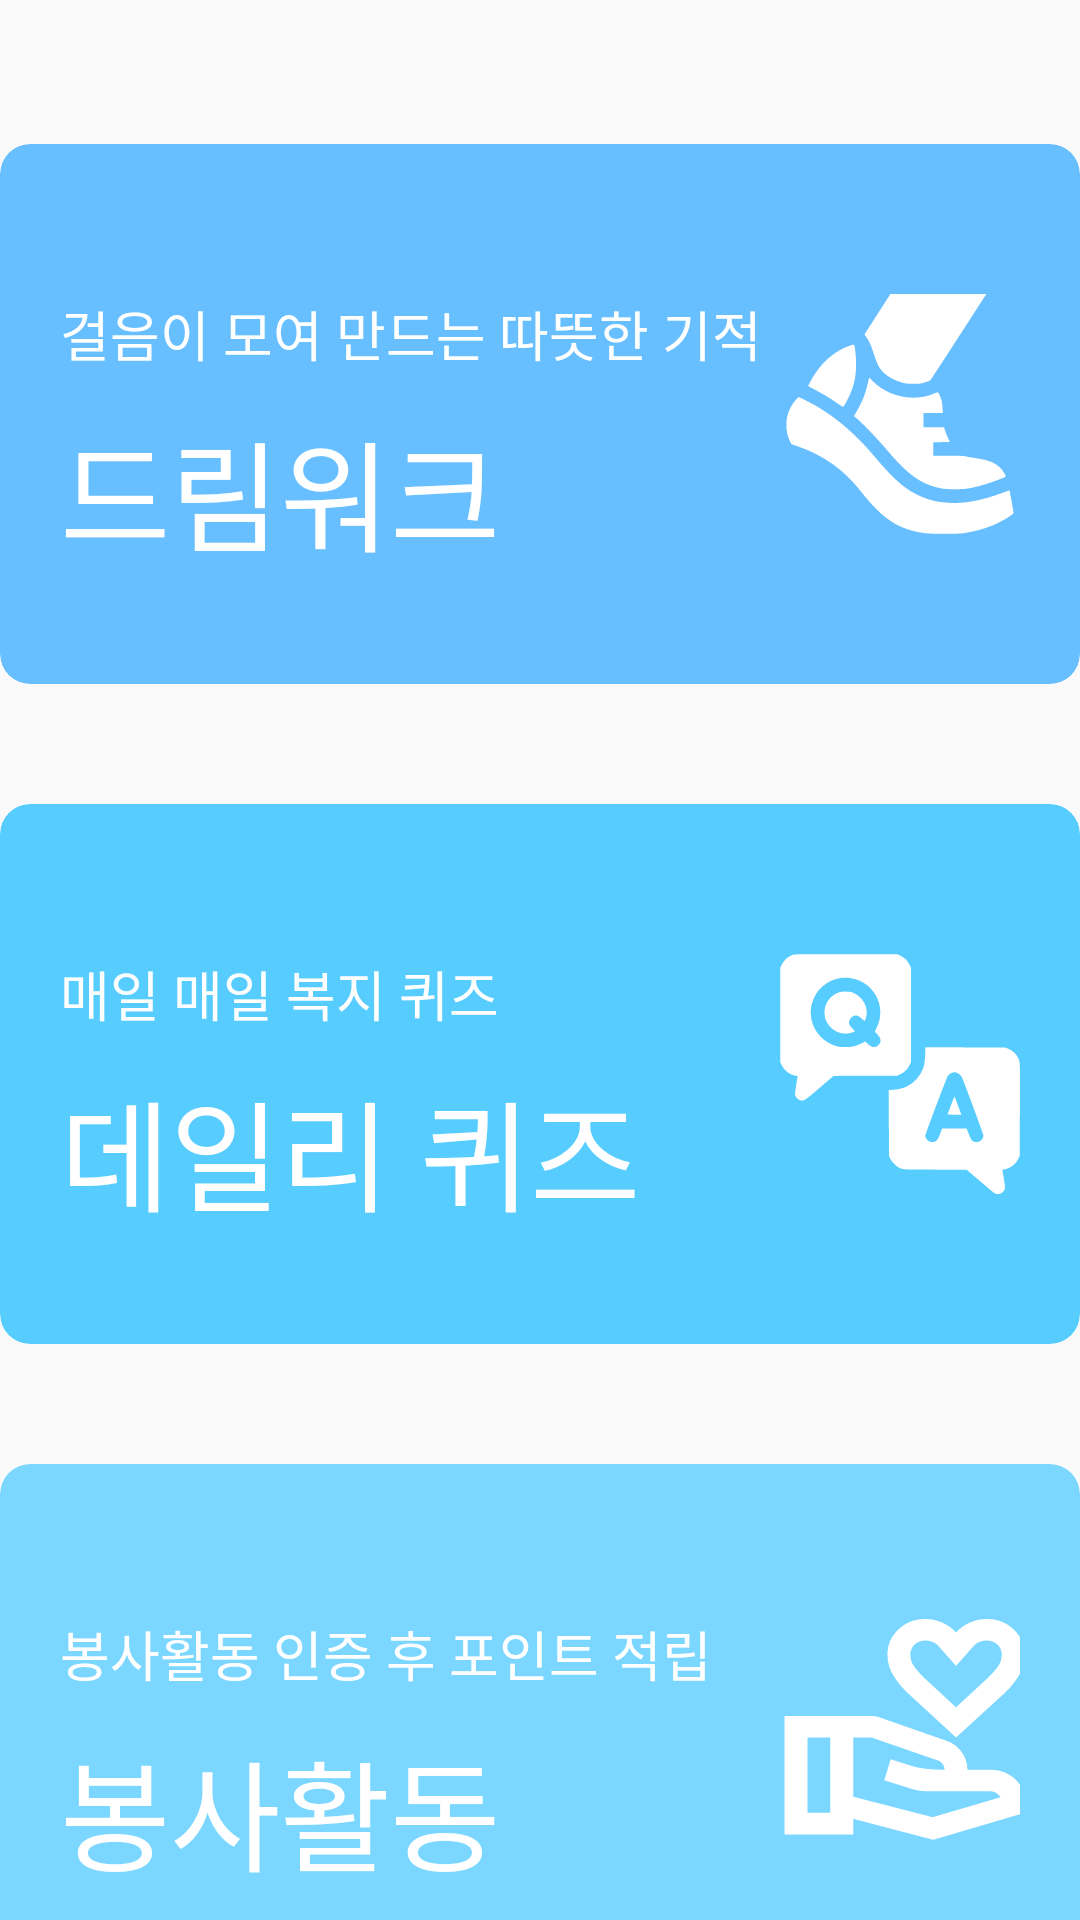

Icon click points for this 1080*1920 phone screenshot, format (x,y):
mission quiz: (900,1074)
mission walk: (900,414)
volunteer: (902,1729)
